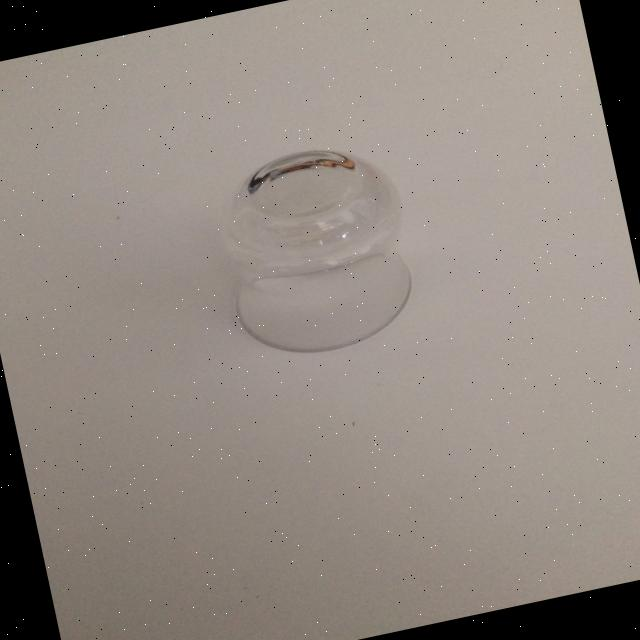glass: (156, 125, 452, 406)
